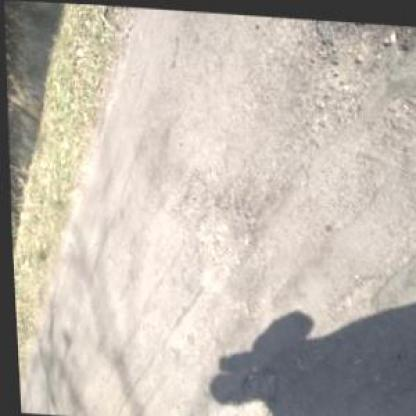pothole: (187, 191, 257, 294), (159, 167, 204, 237)
